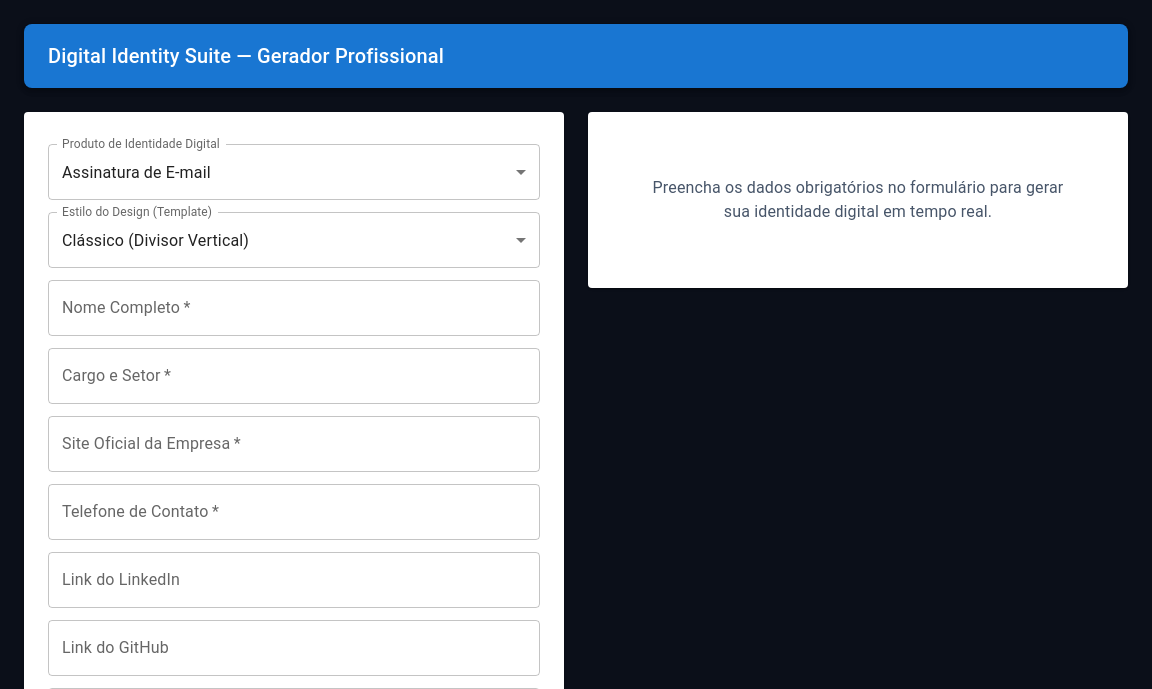
Test: tela › mostra progresso e depois a prévia com link saneado
In the field labelled "Nome Completo *": (294, 308) [48,280,540,336], type "Ada"
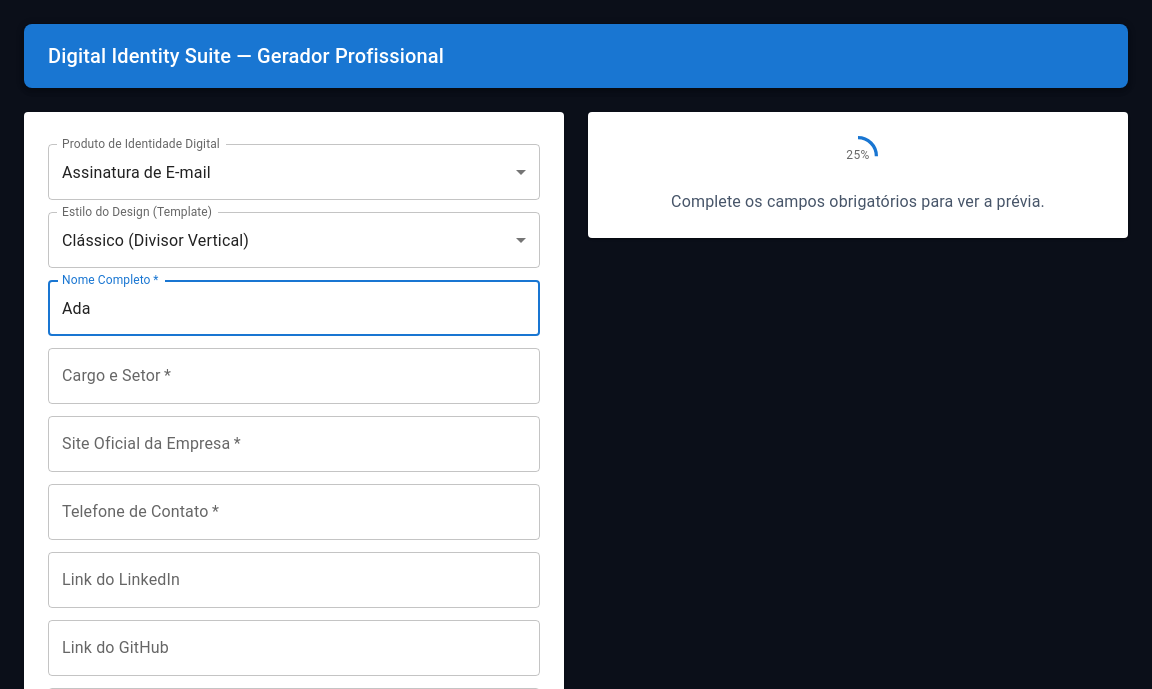
Result: the text "25%" is shown at [846,146,870,166]
Replace the text in the field labelled "Nome Completo *" with "Ada Lovelace": (294, 308) [48,280,540,336]
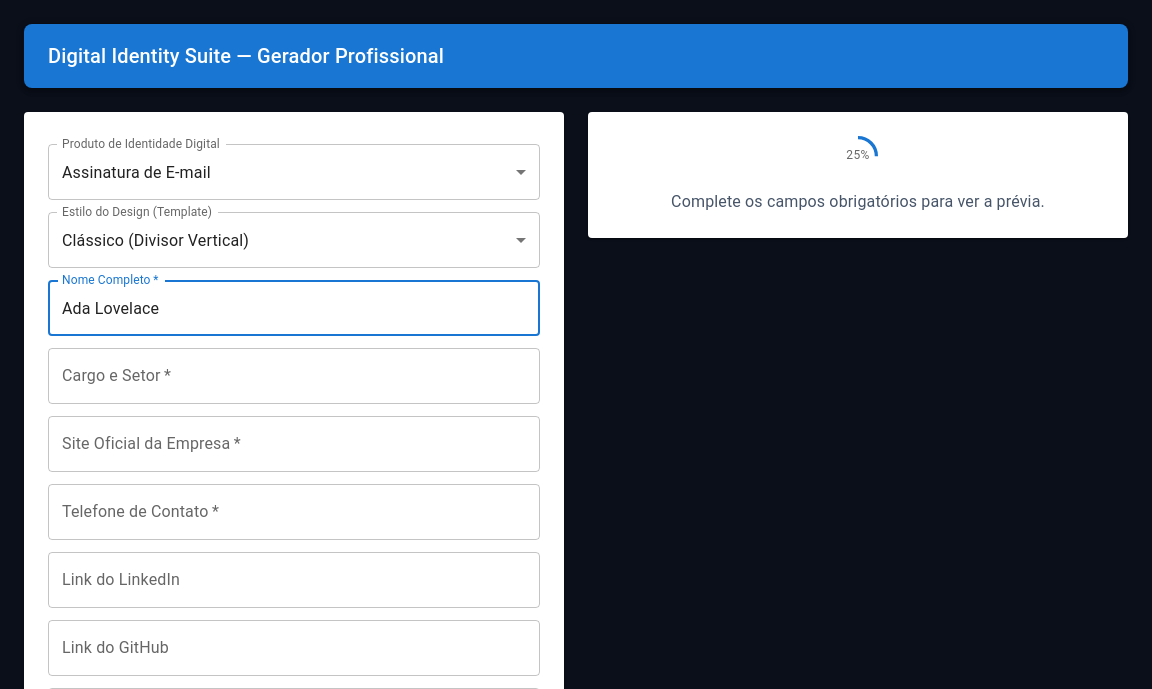
In the field labelled "Cargo e Setor *": (294, 376) [48,348,540,404], type "Engenheira"
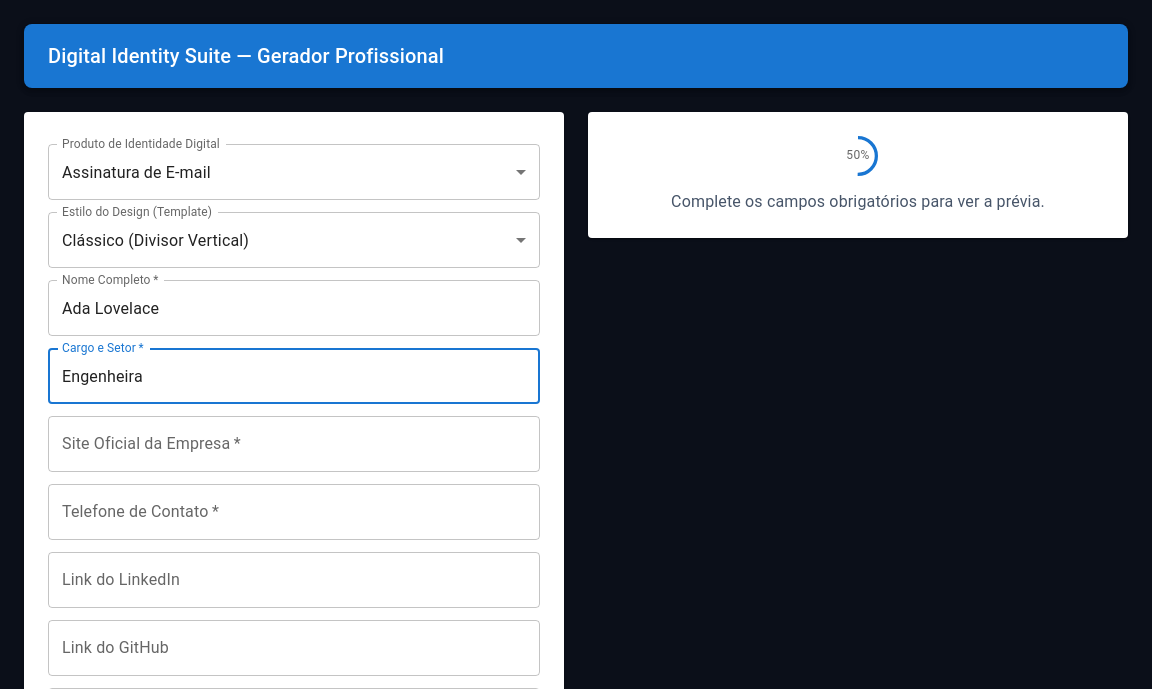
In the field labelled "Site Oficial da Empresa *": (294, 444) [48,416,540,472], type "javascript:alert(1)"
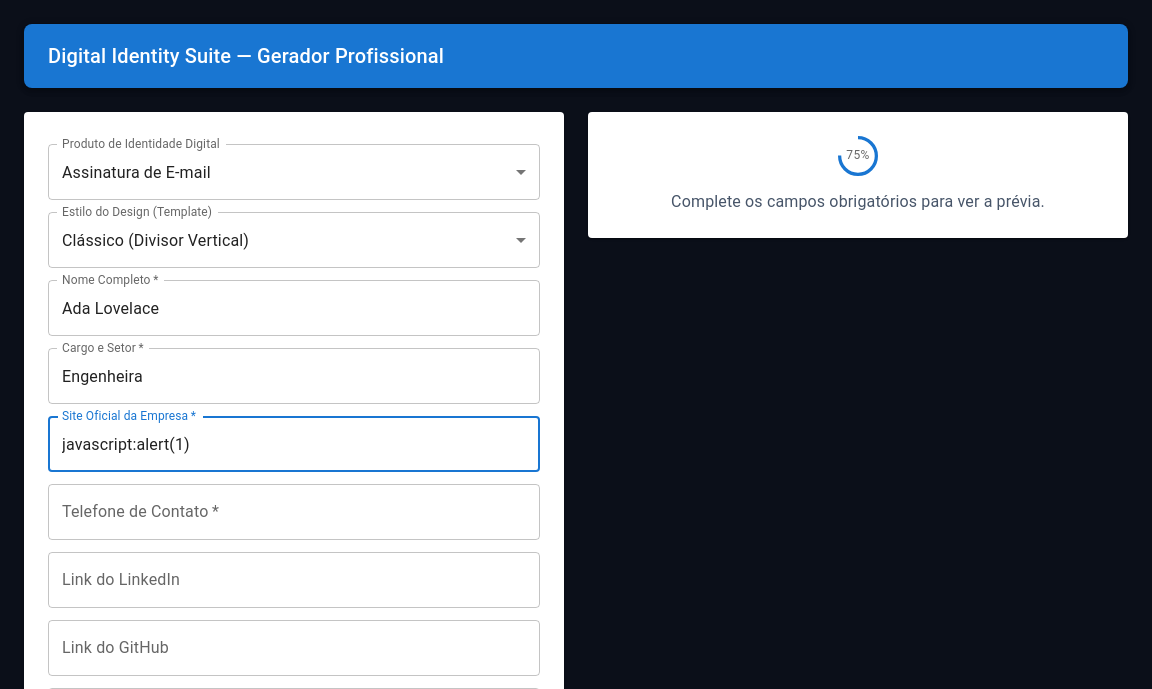
In the field labelled "Telefone de Contato *": (294, 512) [48,484,540,540], type "11 98888-7777"
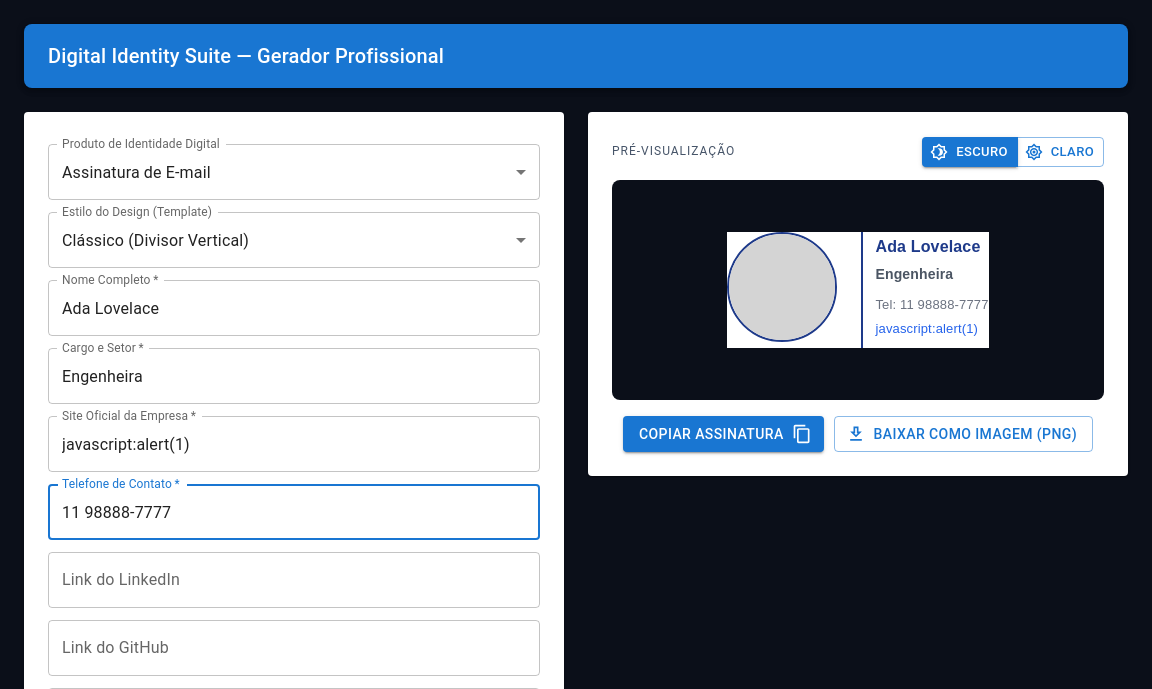
Result: the element "Pré-visualização" shows "Ada Lovelace" at [876,238,980,255]
